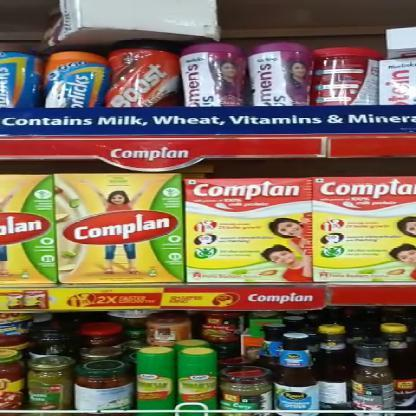Complan Pista Badam: (52, 172, 180, 286), (179, 176, 310, 282), (311, 174, 415, 280)
